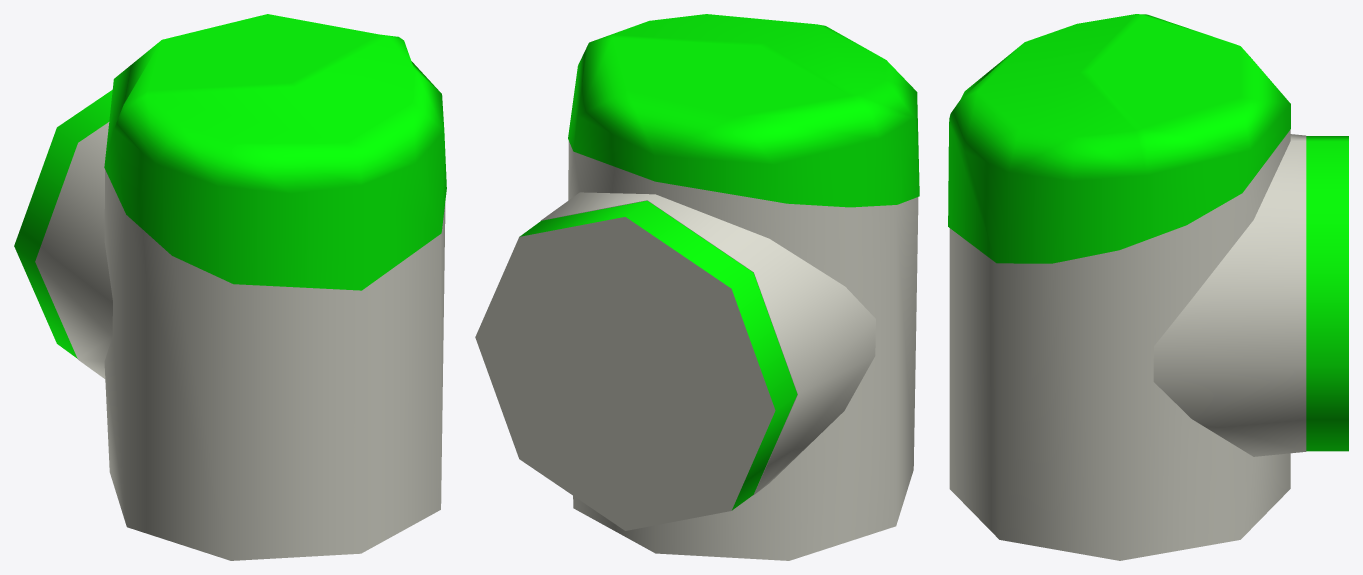
Rendered from joint5.obj.
3 renders of one model, left to right at view 1: azimuth 30°, elevation 25°; view 2: azimuth 150°, elevation 25°; view 3: azimuth 270°, elevation 25°, orthographic. The views are drawn at different scales.
Bounding box in the file's own units: 76.44 × 103 × 89.33.
